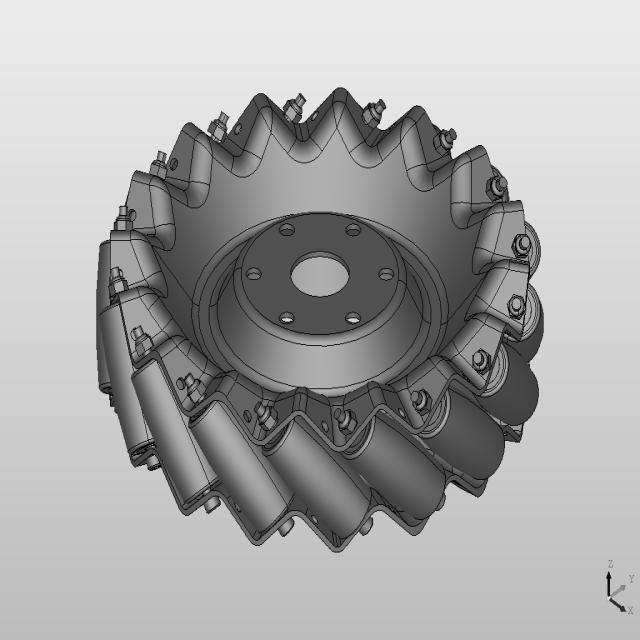screw: (428, 121, 463, 170), (506, 227, 543, 273), (358, 87, 389, 138), (203, 100, 235, 147), (250, 394, 284, 438), (280, 85, 310, 133), (329, 404, 365, 444), (180, 370, 215, 408), (482, 165, 516, 204), (468, 333, 495, 381), (500, 292, 534, 330), (142, 146, 176, 184), (127, 321, 156, 365), (107, 198, 138, 239), (405, 383, 435, 421), (105, 262, 132, 302)
